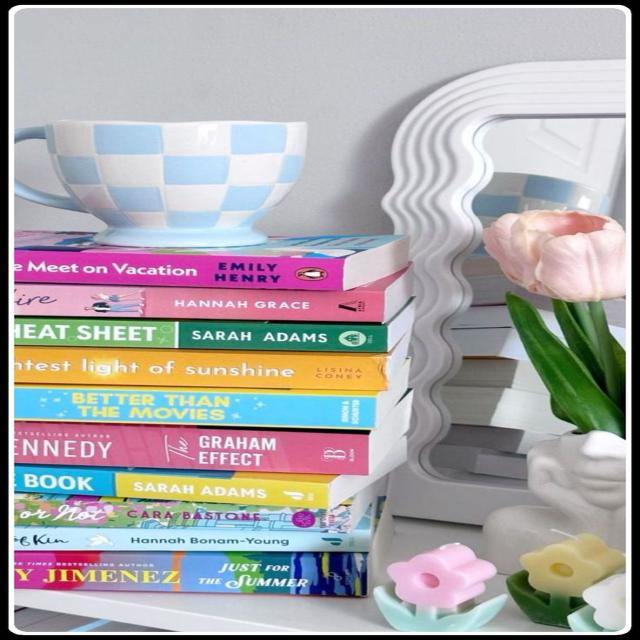book: (15, 422, 376, 476), (15, 387, 376, 429), (14, 350, 387, 390), (14, 552, 366, 592), (15, 466, 348, 508), (17, 286, 385, 323), (12, 246, 342, 286), (16, 497, 351, 533), (14, 321, 386, 351), (15, 529, 370, 551)
flowers: (484, 210, 624, 438)
